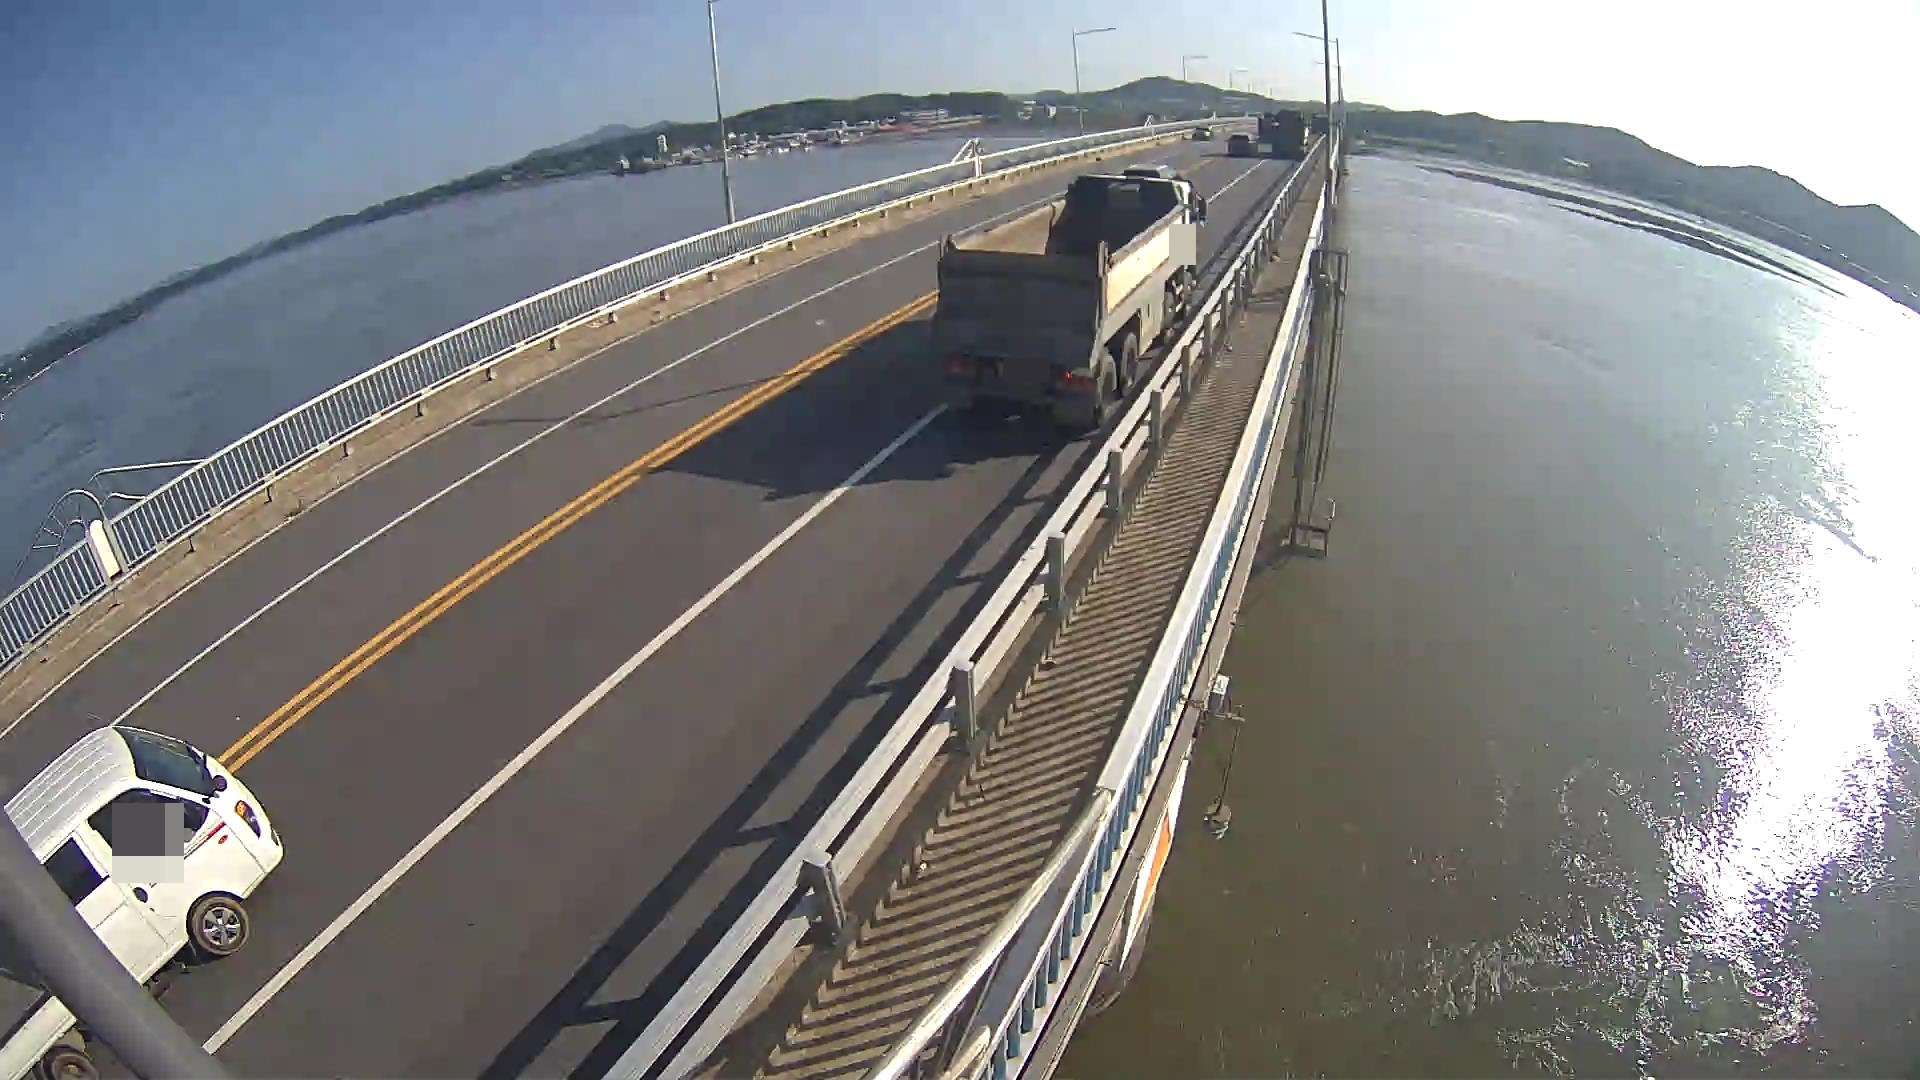정상차량: (936, 164, 1207, 427)
